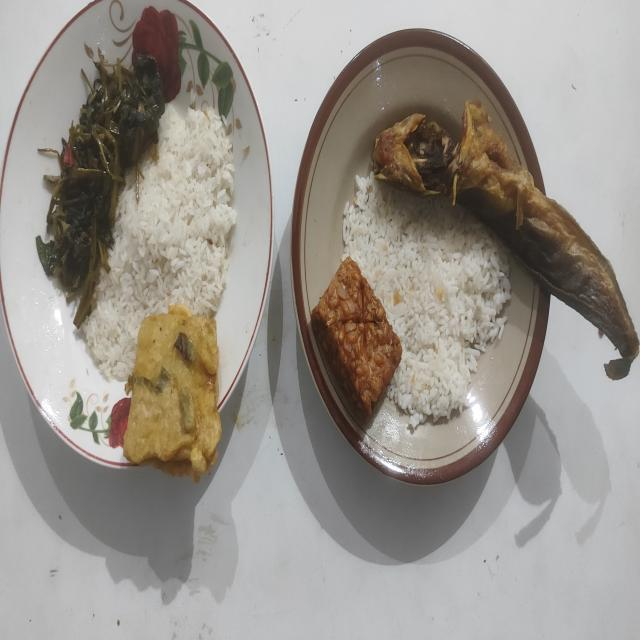nasi_putih: (82, 105, 237, 380), (342, 176, 510, 429)
tempe_goreng: (311, 256, 402, 422)
tumis_kangkung: (36, 53, 165, 327)
